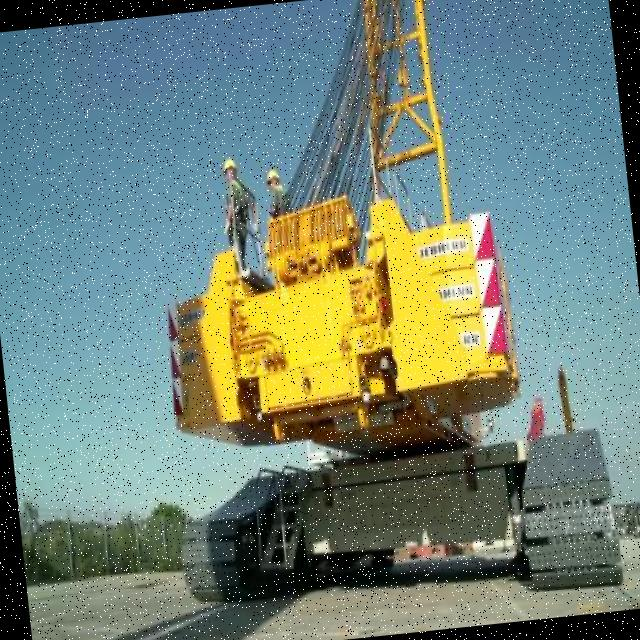Mobile Crane: (123, 0, 621, 625)
